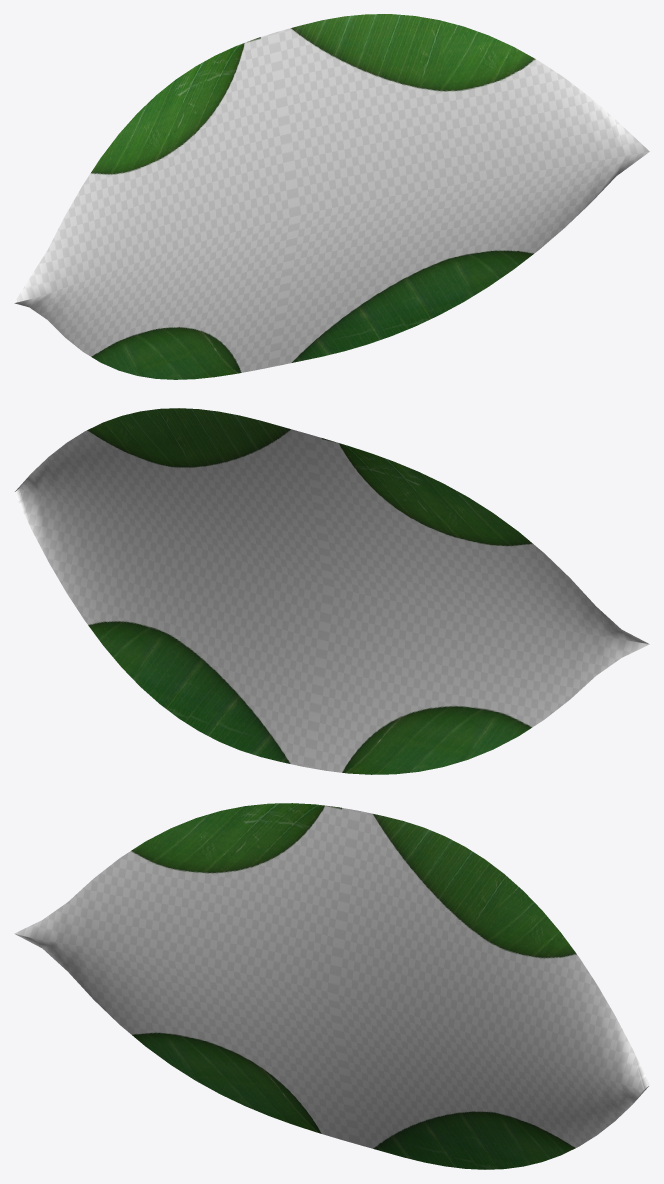
Rendered from lisc-lato.fbx.
3 renders of one model, top to bottom at view 1: azimuth 30°, elevation 25°; view 2: azimuth 150°, elevation 25°; view 3: azimuth 330°, elevation 25°, orthographic.
Visible parts, largest first — view 1: Leaf_Generator; view 2: Leaf_Generator; view 3: Leaf_Generator.
Part boxes in pixels (x1,y1,x2,y2): Leaf_Generator: [14, 14, 649, 379]; Leaf_Generator: [14, 408, 649, 774]; Leaf_Generator: [14, 803, 649, 1169].
Bounding box in the file's own units: 190 × 96.67 × 23.28.
1 material, 1 textured.
